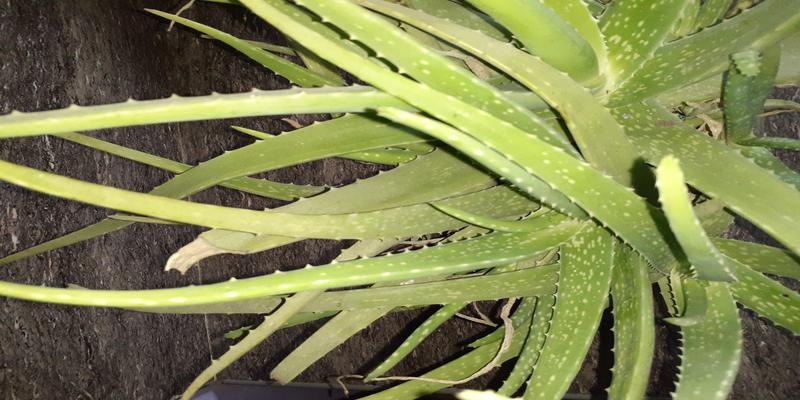Aloevera: (171, 25, 795, 381)
